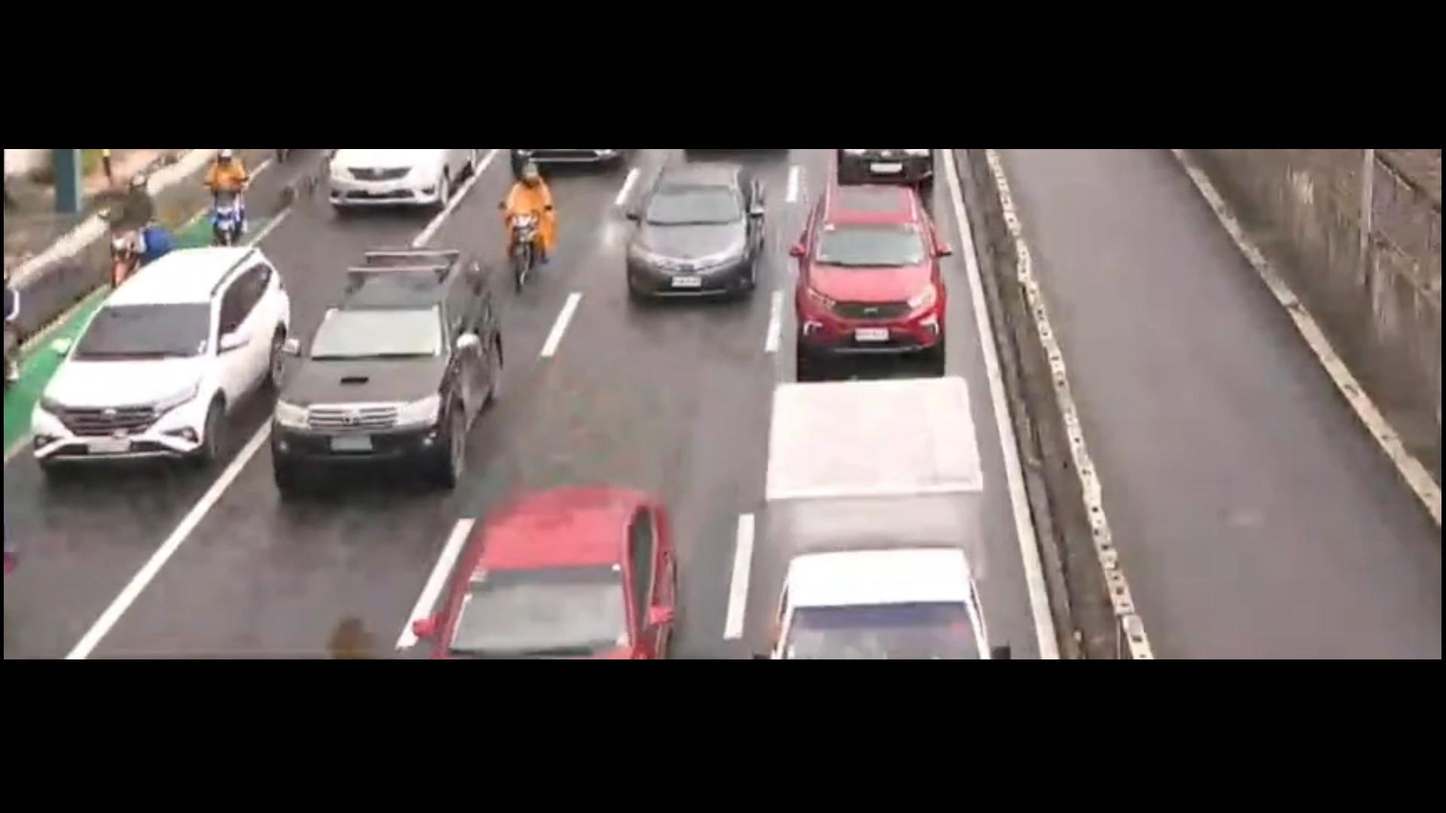Motorcycle: (487, 164, 575, 294), (111, 177, 172, 289), (198, 155, 255, 244)
SUV: (250, 232, 522, 514), (16, 238, 294, 491), (771, 164, 968, 374), (328, 149, 483, 224)
Sedan: (417, 467, 697, 661), (609, 160, 778, 318)
Truck: (750, 362, 1010, 658)
